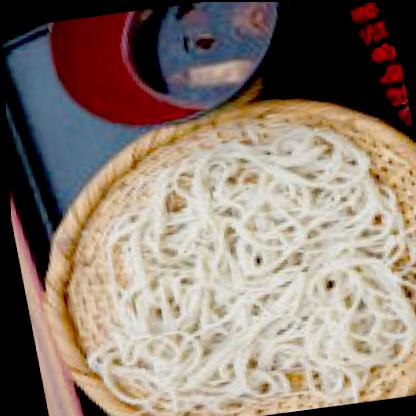memil soba: (52, 119, 415, 415)
